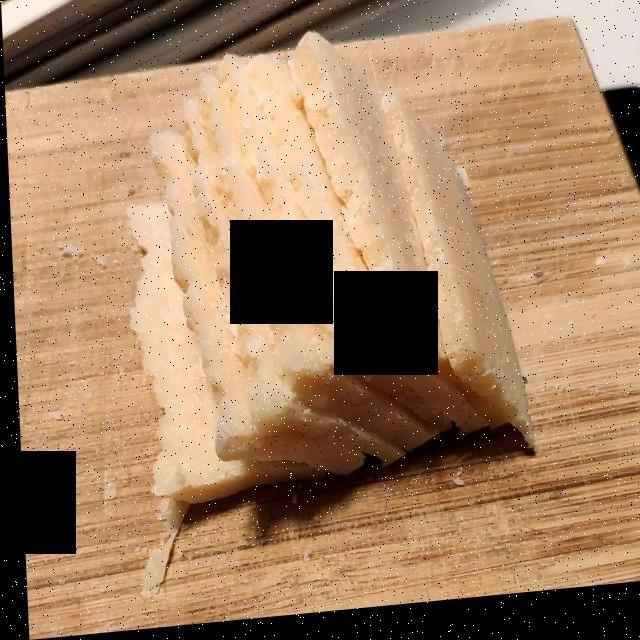cheese: (142, 47, 529, 506)
